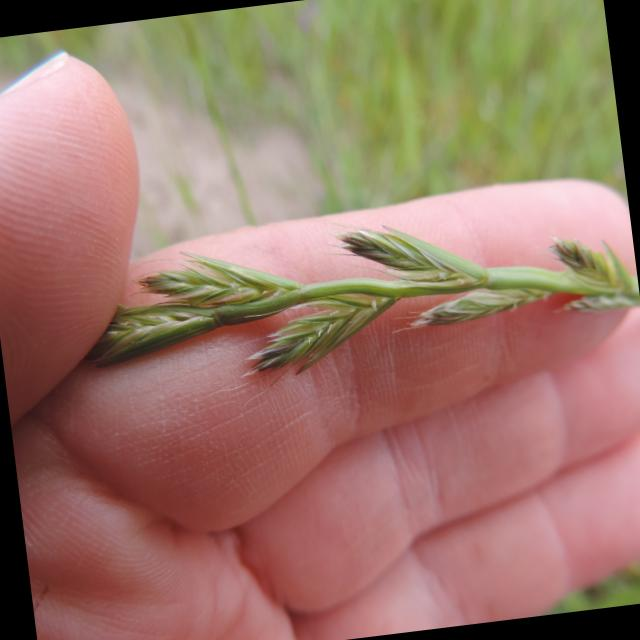Lolium: (72, 188, 640, 409)
